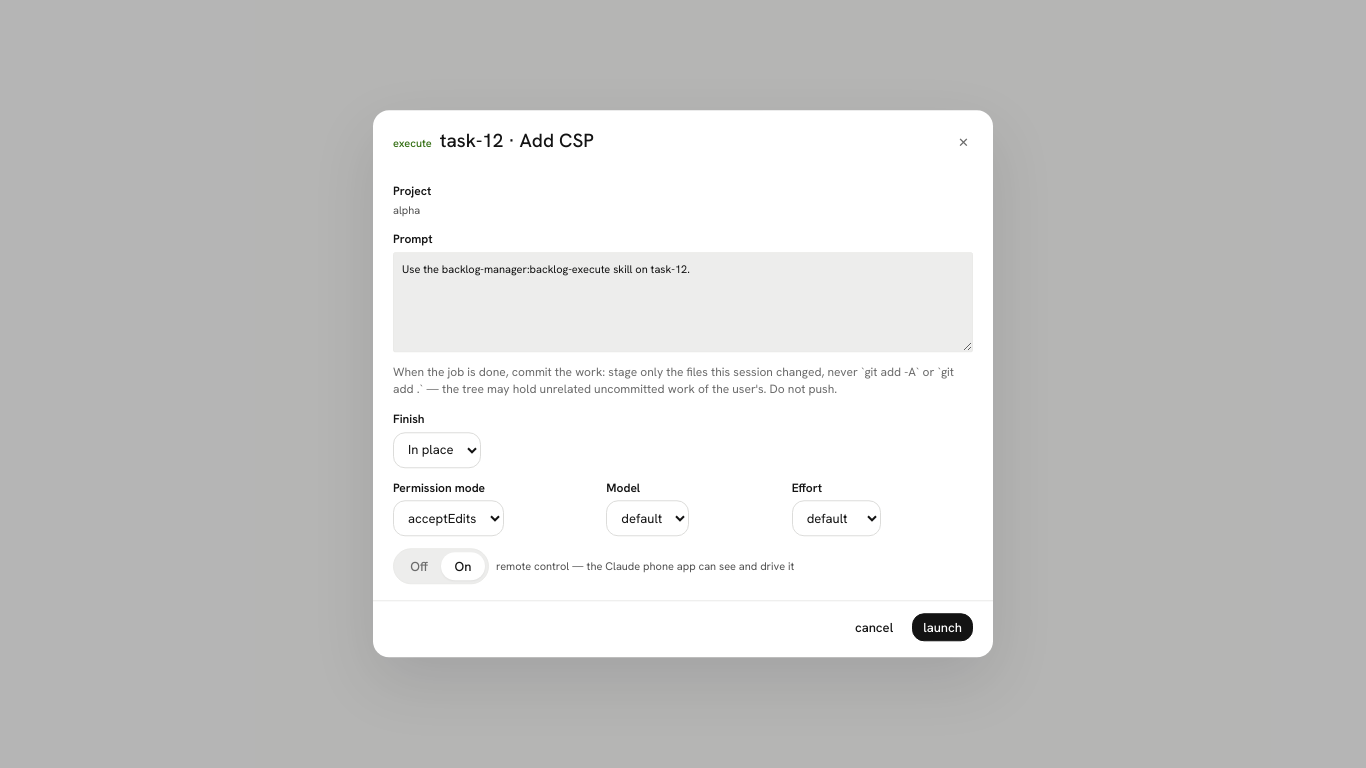
Test: LaunchSheet › renders the server error verbatim and leaves the form usable
This screenshot has width=1366, height=768.
Click the button "launch": {"x": 943, "y": 628} [912,614,973,642]
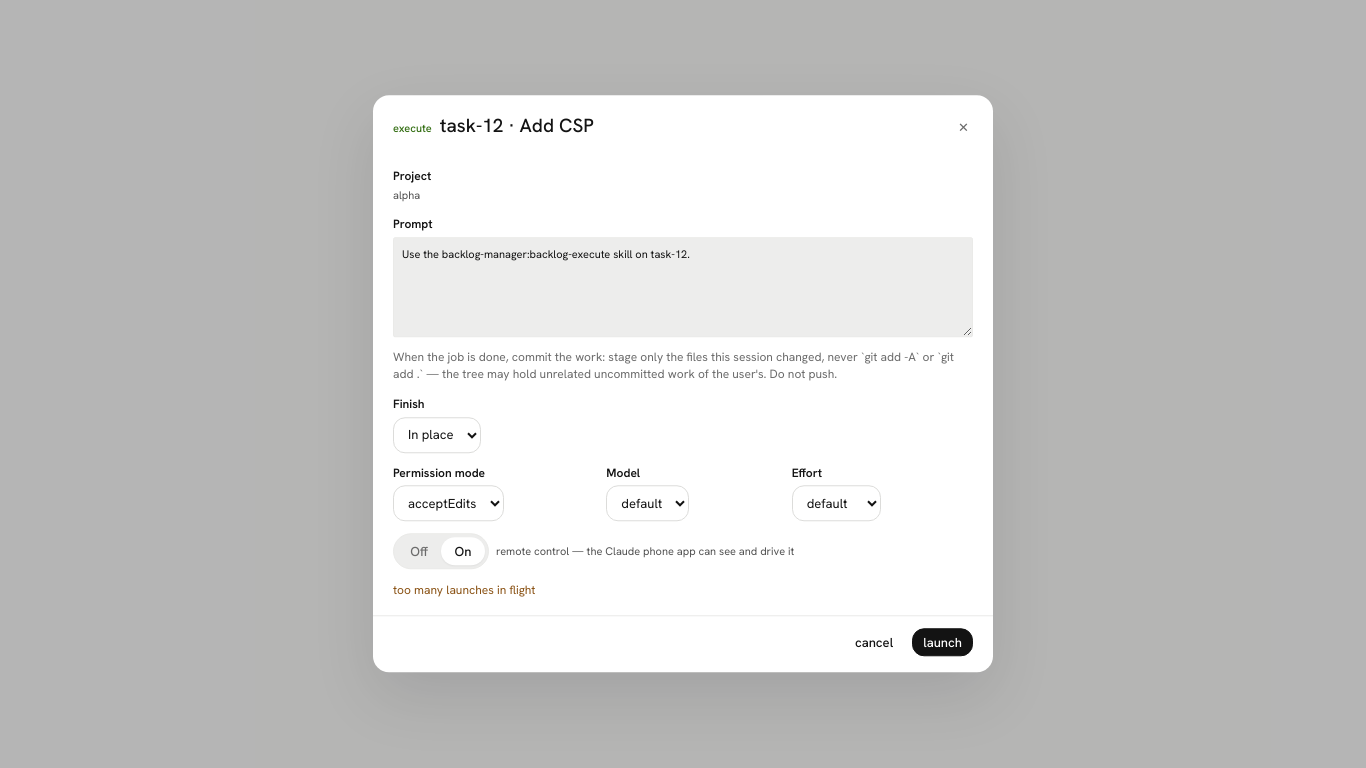
Check: the button "launch" is enabled, box [912,629,973,657]
Check: the text "too many launches in flight" is shown, box [393,583,535,599]
